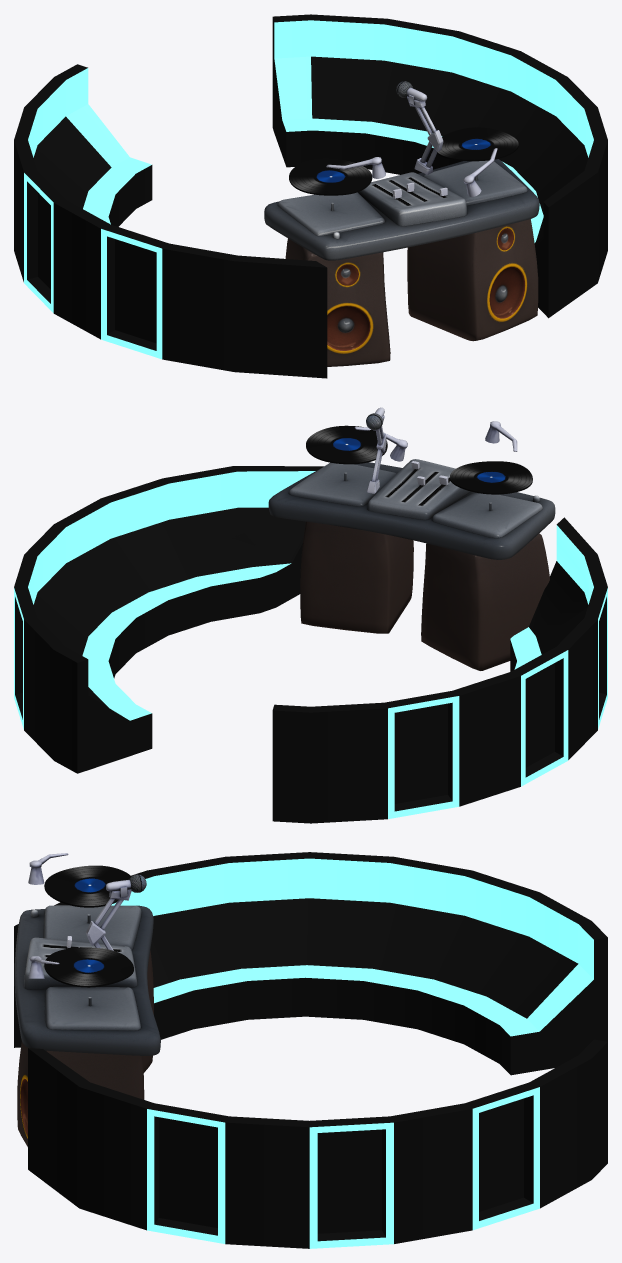
File: DiscoDJTables.fbx
3 renders of one model, top to bottom at view 1: azimuth 30°, elevation 25°; view 2: azimuth 150°, elevation 25°; view 3: azimuth 270°, elevation 25°, orthographic. The views are drawn at different scales.
Visible parts, largest first — view 1: Cylinder.001, Cylinder.005, audio_desk.001, audio_speaker_2.001, audio_speaker_1.001, audio_desk.002, audio_vinyl_1.001, audio_vinyl_2.002, audio_microphone.001, audio_vinyl_2.001; view 2: Cylinder.001, Cylinder.005, audio_desk.002, audio_speaker_2.002, audio_speaker_1.002, audio_desk.001, audio_speaker_1.001, audio_speaker_2.001, audio_vinyl_1.001, audio_vinyl_2.002, audio_vinyl_2.001, audio_microphone.002; view 3: Cylinder.005, Cylinder.001, audio_desk.001, audio_desk.002, audio_speaker_2.002, audio_vinyl_1.001, audio_vinyl_2.002, audio_vinyl_2.001, audio_microphone.001, audio_microphone.002, audio_speaker_2.001, audio_vinyl_1.002.
Part boxes in pixels (x1,y1,x2,y2): Cylinder.001: (14, 14, 607, 378); Cylinder.005: (14, 14, 607, 369); audio_desk.001: (264, 159, 539, 260); audio_speaker_2.001: (407, 219, 538, 341); audio_speaker_1.001: (285, 238, 390, 366); audio_desk.002: (264, 159, 539, 257); audio_vinyl_1.001: (289, 158, 372, 195); audio_vinyl_2.002: (438, 127, 518, 159); audio_microphone.001: (396, 81, 443, 174); audio_vinyl_2.001: (437, 127, 517, 161); Cylinder.001: (14, 466, 606, 823); Cylinder.005: (14, 466, 607, 815); audio_desk.002: (268, 459, 554, 559); audio_speaker_2.002: (300, 521, 387, 633); audio_speaker_1.002: (421, 543, 544, 670); audio_desk.001: (272, 459, 555, 556); audio_speaker_1.001: (476, 533, 549, 668); audio_speaker_2.001: (374, 534, 413, 633); audio_vinyl_1.001: (450, 461, 532, 492); audio_vinyl_2.002: (306, 425, 387, 464); audio_vinyl_2.001: (306, 426, 387, 463); audio_microphone.002: (366, 408, 385, 493); Cylinder.005: (14, 852, 607, 1248); Cylinder.001: (14, 852, 607, 1244); audio_desk.001: (14, 905, 155, 1054); audio_desk.002: (27, 905, 160, 1055); audio_speaker_2.002: (20, 1050, 144, 1132); audio_vinyl_1.001: (44, 865, 131, 907); audio_vinyl_2.002: (44, 947, 133, 987); audio_vinyl_2.001: (44, 947, 133, 985); audio_microphone.001: (86, 874, 142, 950); audio_microphone.002: (87, 874, 146, 950); audio_speaker_2.001: (17, 1041, 28, 1146); audio_vinyl_1.002: (44, 869, 126, 907).
Bounding box in the file's own units: 7.52 × 3.18 × 6.86.
6 materials, 2 textured.
